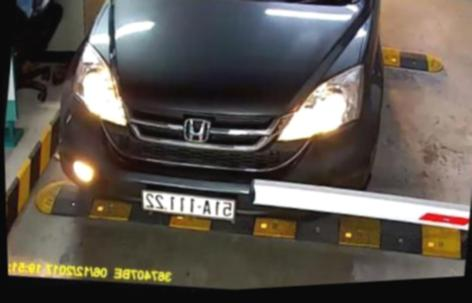License_Plate: (121, 181, 245, 230)
